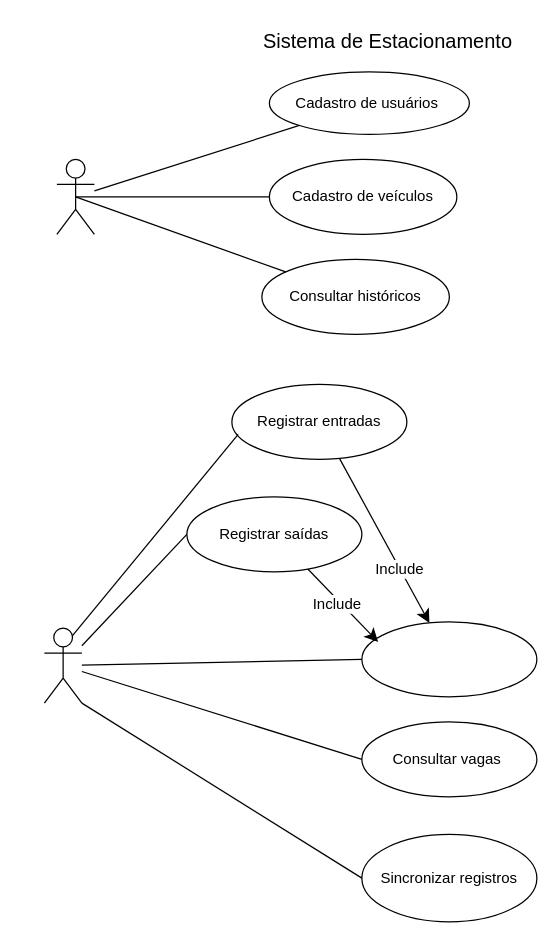
Some shapes in this 559 by 944 pixel diagram are drawn without their labels. Here are the shapes that lost their labels. From the top down, the box of each, then its label:
(56, 158, 94, 234): Admin
(43, 627, 82, 703): Funcionário da guarita
(361, 621, 537, 697): Identificar veículos
